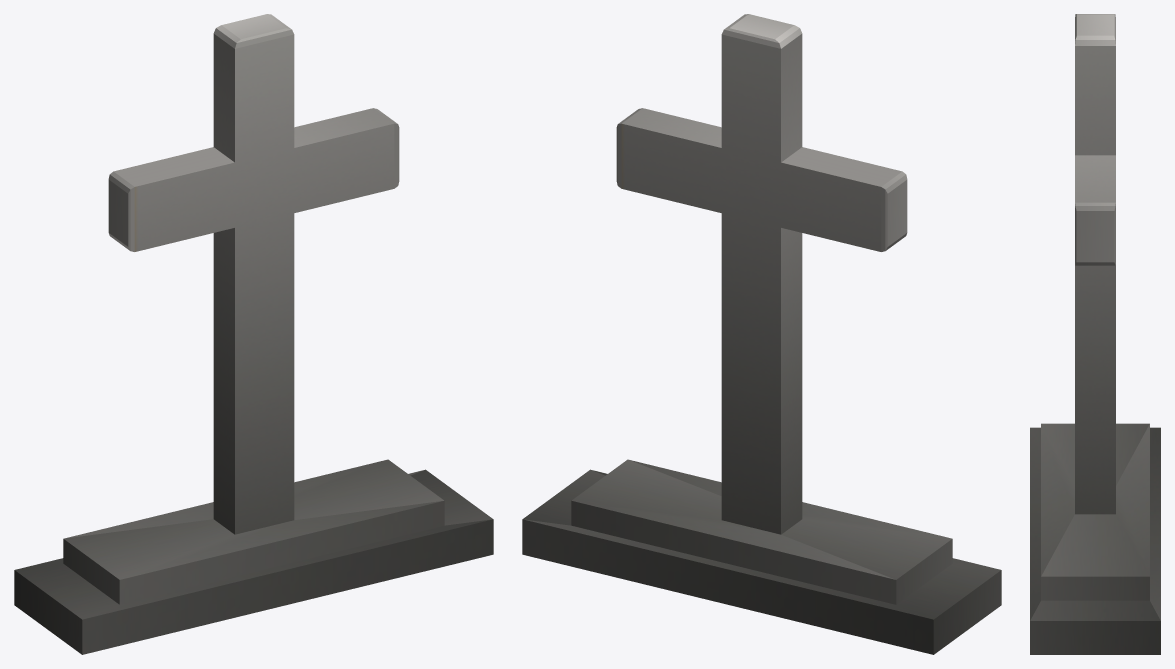
Rendered from tombston_model_02.fbx.
3 views of the same model, side by side, from view 1: azimuth 30°, elevation 25°; view 2: azimuth 150°, elevation 25°; view 3: azimuth 270°, elevation 25° (orthographic). The views are drawn at different scales.
Visible parts, largest first — view 1: Cube.001; view 2: Cube.001; view 3: Cube.001.
Boxes of the visible parts, x1,y1,x2,y2 form: Cube.001: (14,14,493,654); Cube.001: (522,14,1001,654); Cube.001: (1030,14,1160,654).
Size of the model in its own units: 0.7 by 0.9 by 0.2.
